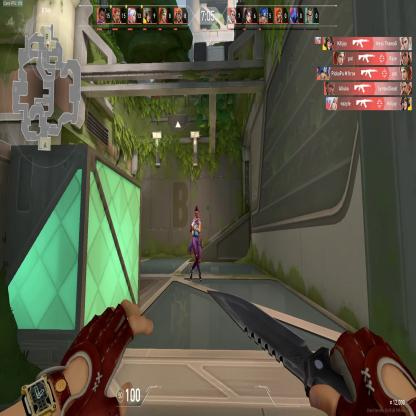enemy: (188, 204, 204, 284)
